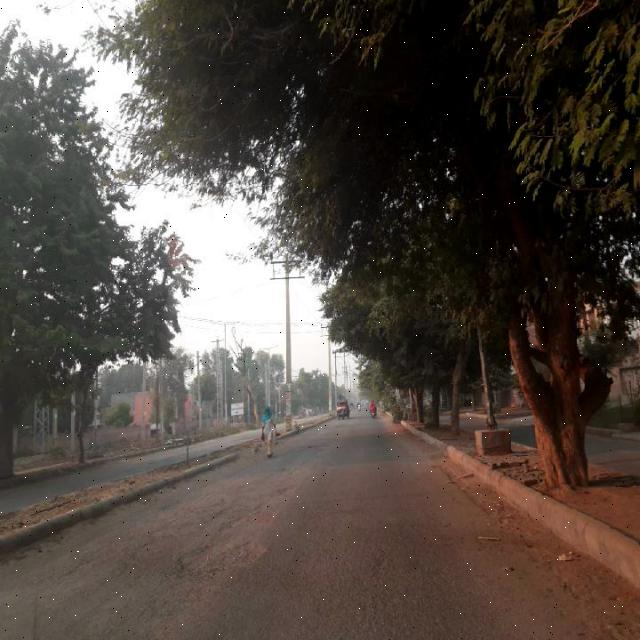D40: (165, 497, 282, 594)
